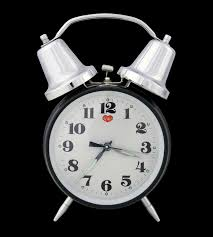alarm_clock: (27, 14, 175, 224), (33, 14, 175, 224)
